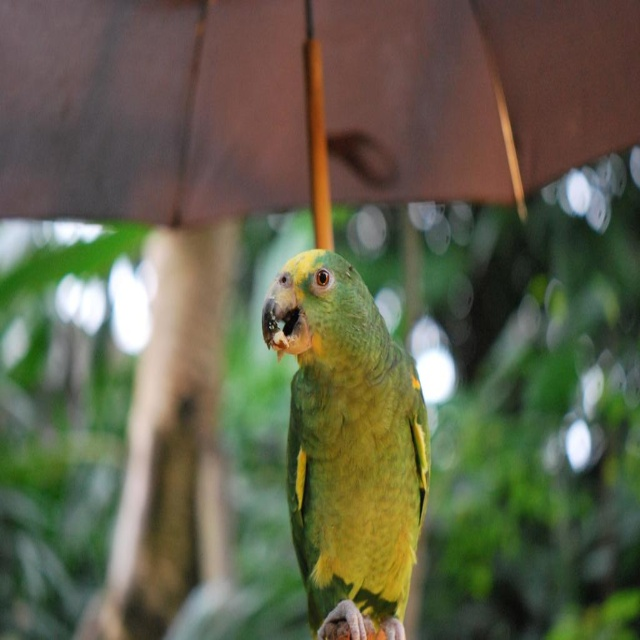Parrot: (260, 246, 432, 639)
